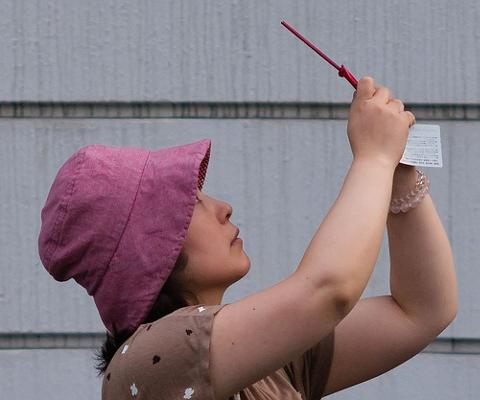person: (43, 75, 459, 399)
